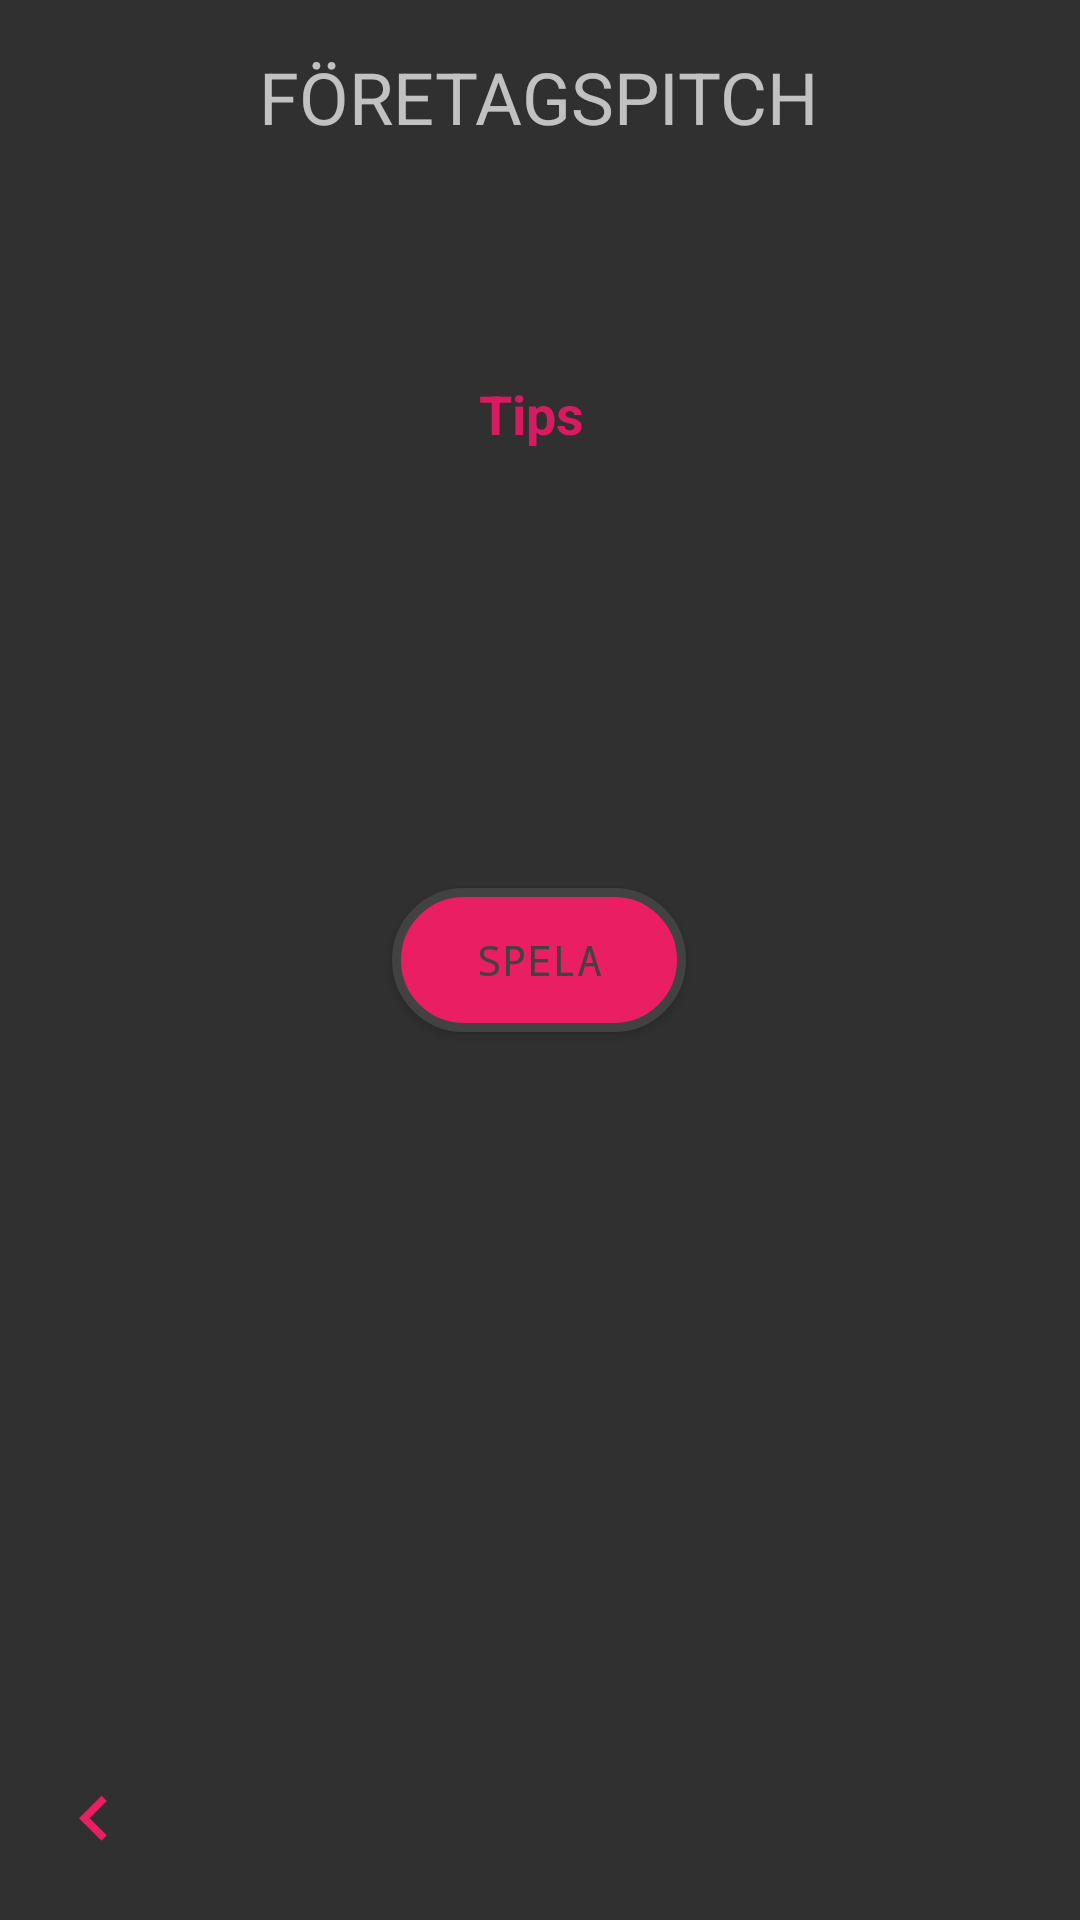

Screen size 1080x1920. Icon name, then its center in pixels as point (x, y):
keyboard arrow left: point (93, 1818)
